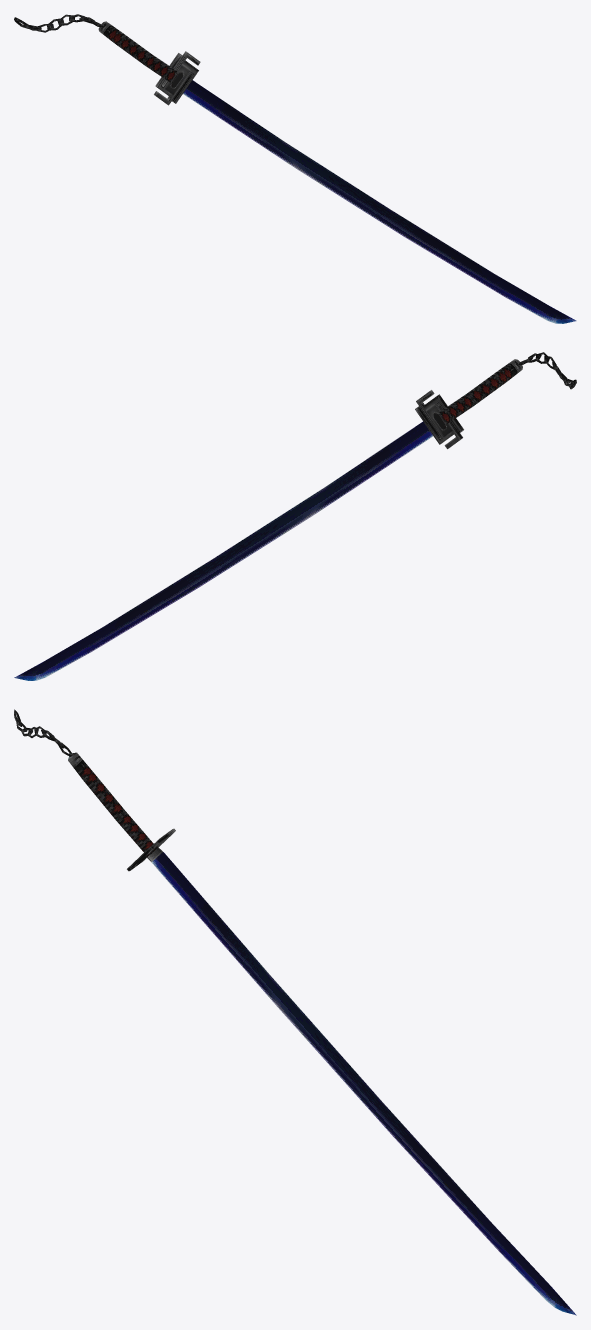
Rendered from ps2_save-icons_bleachhanatareshiyabou.glb.
3 views of the same model, one above another, from view 1: azimuth 30°, elevation 25°; view 2: azimuth 150°, elevation 25°; view 3: azimuth 330°, elevation 25° (orthographic). The views are drawn at different scales.
Visible parts, largest first — view 1: bleach.ico; view 2: bleach.ico; view 3: bleach.ico.
Boxes of the visible parts, left/top/right/bottom form: bleach.ico: left=14, top=14, right=576, bottom=323; bleach.ico: left=14, top=352, right=576, bottom=680; bleach.ico: left=14, top=709, right=576, bottom=1315.
Size of the model in its own units: 3.96 by 2.97 by 0.3589.
Materials: 1 (1 with a texture image).
